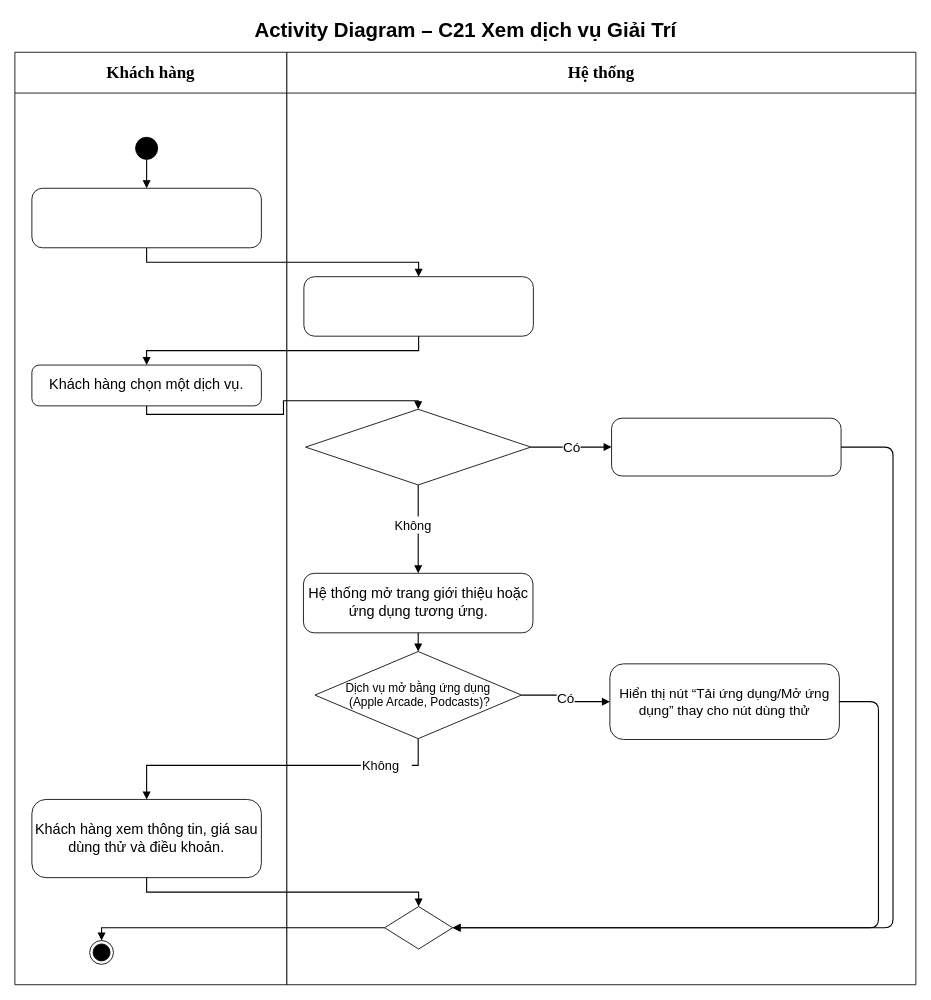
The diagram is 931 pixels wide and 1000 high, and some of its shapes have lost their labels. Here are the shapes that lost their labels. From the top down, the centre of each, then its label:
At [146,217]: "Khách hàng chọn Giải Trí trên thanh điều hướng.".
At [418,306]: "Hệ thống hiển thị các dịch vụ và nút tương ứng.".
At [418,446]: "Liên kết sang miền dịch vụ khác của Apple?".
At [726,446]: "Trình duyệt chuyển tới đích tương ứng".
